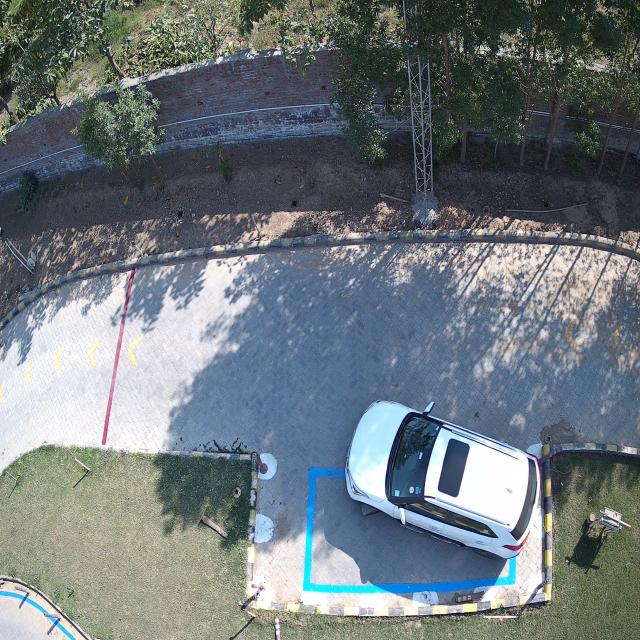car: (343, 399, 543, 561)
